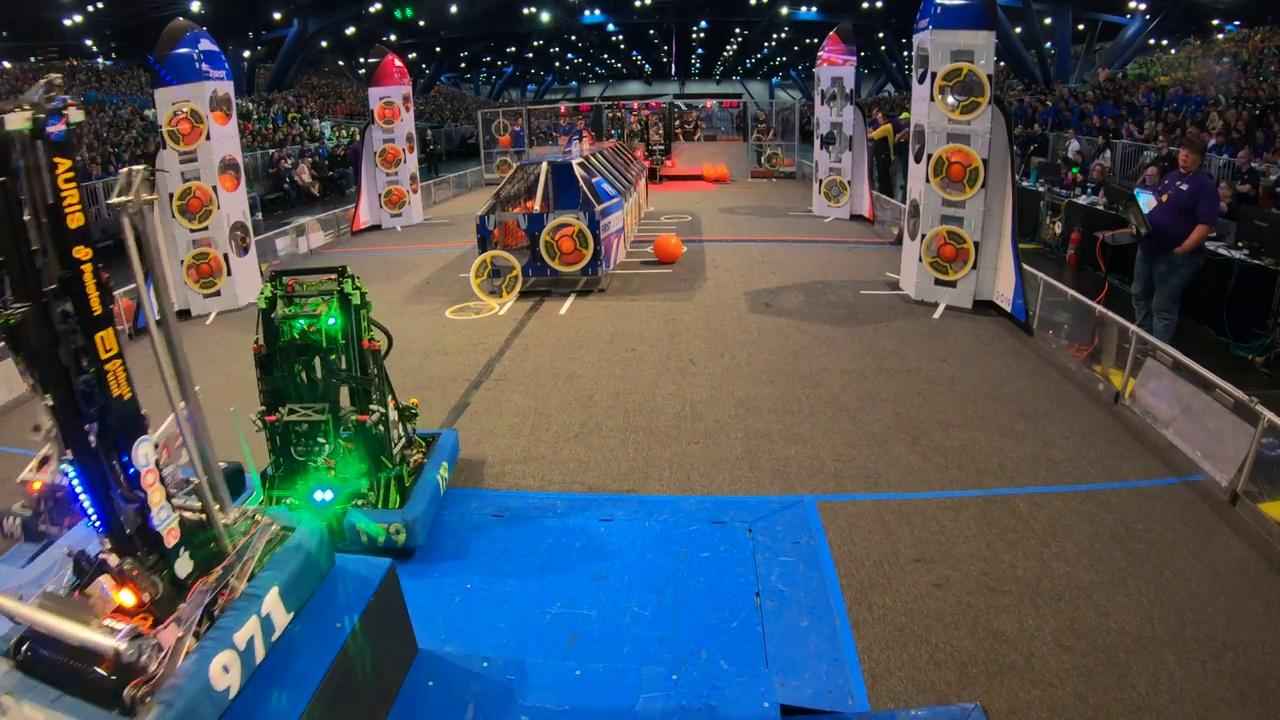robot: (0, 67, 337, 720), (218, 263, 464, 560), (638, 100, 678, 169)
